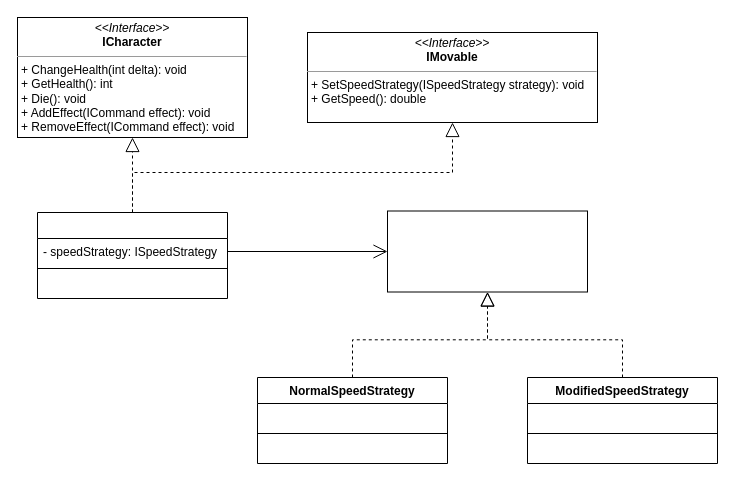
The diagram is 735 pixels wide and 484 high, and some of its shapes have lost their labels. The box of each missing label's shape, as (x1, y1, x2, y2) in pixels:
<<Interface>> ISpeedStrategy + GetSpeed(double speed): double: (386, 210, 588, 292)
AbstractCharacter: (36, 212, 228, 298)
